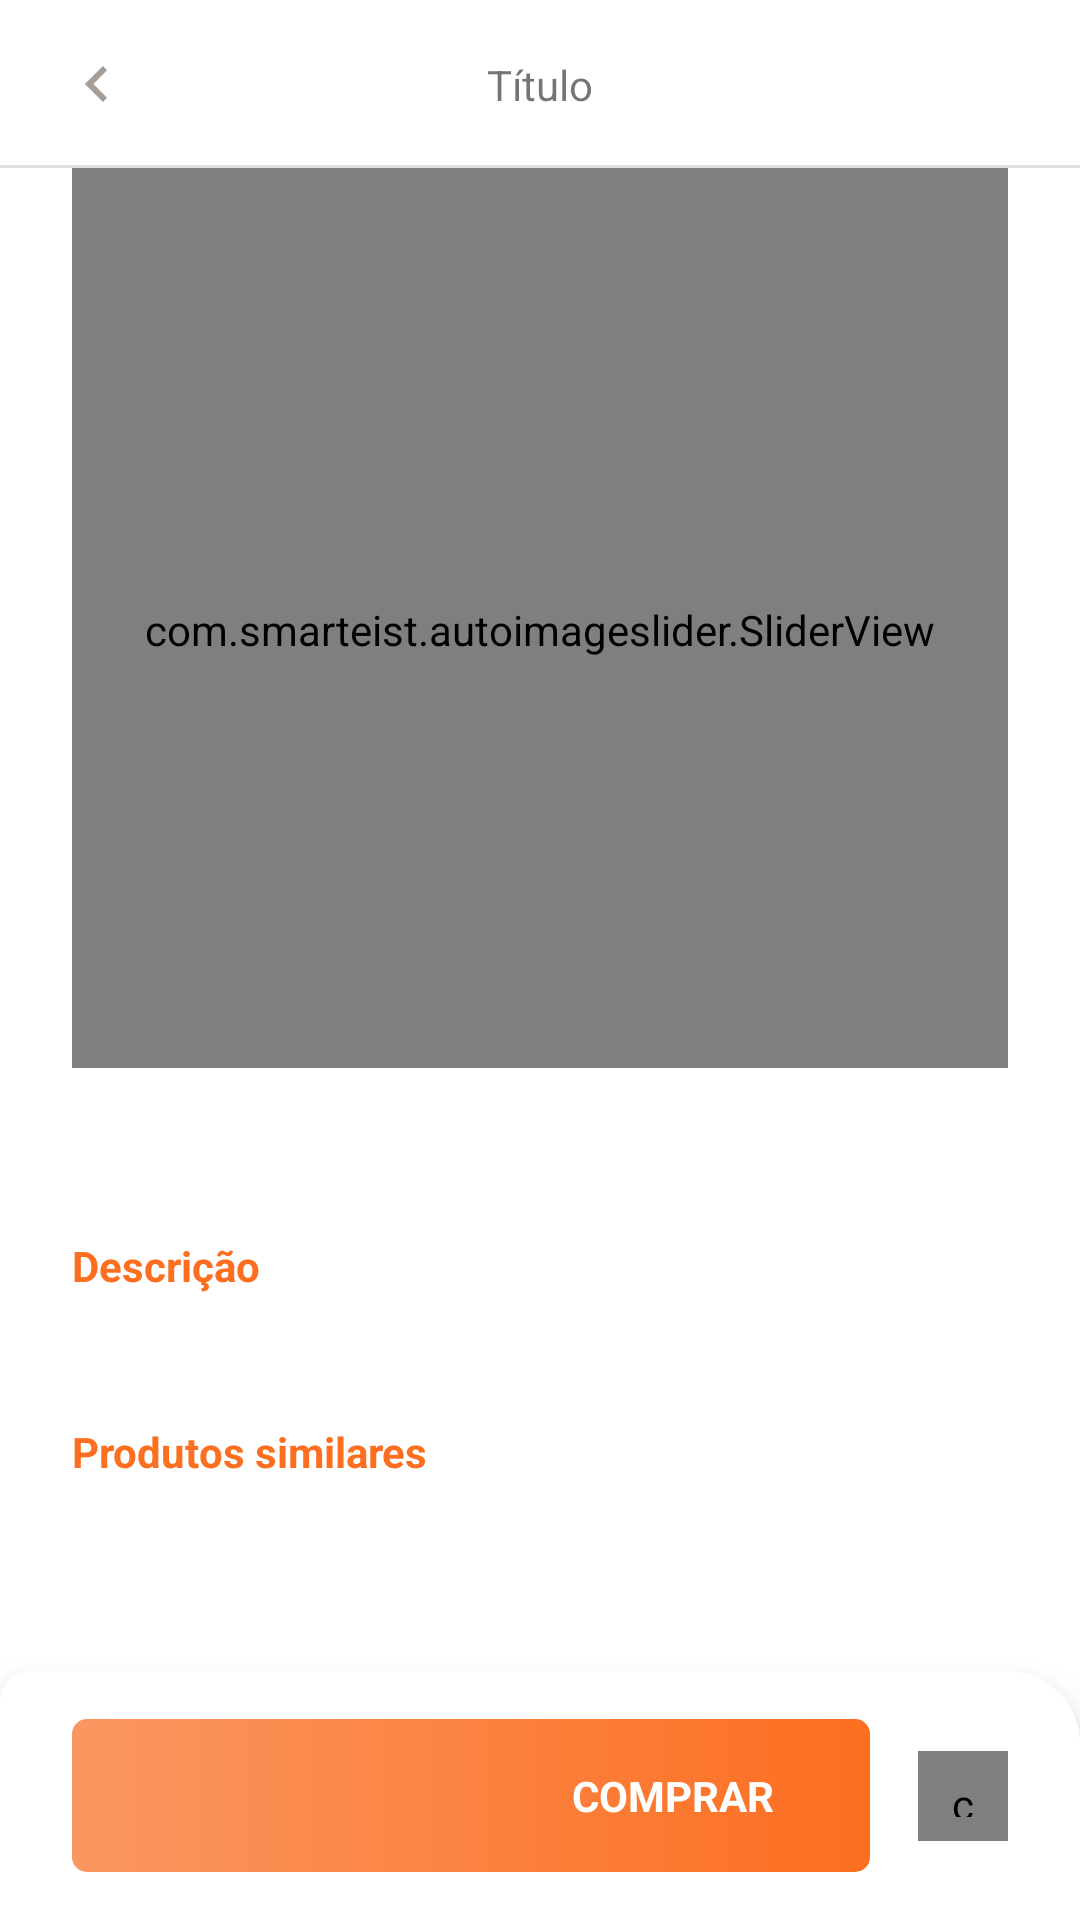

Locate icon controls on the screen. Image size 1080px×1920px, boxes as (x1, y1, x2, y2).
voltar: (85, 66, 107, 102)
